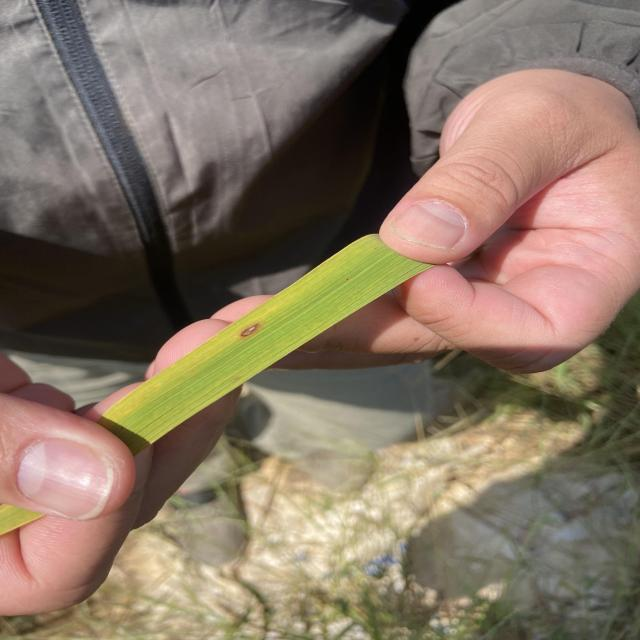Dom nau: (240, 323, 261, 337)
